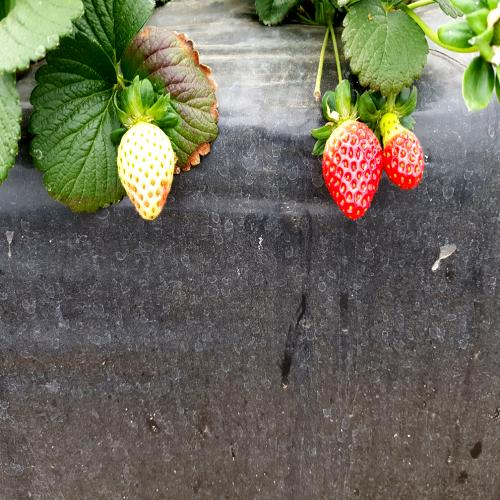ripe: (315, 111, 389, 229), (378, 124, 434, 194), (385, 117, 386, 118)
unripe: (109, 116, 186, 226)
